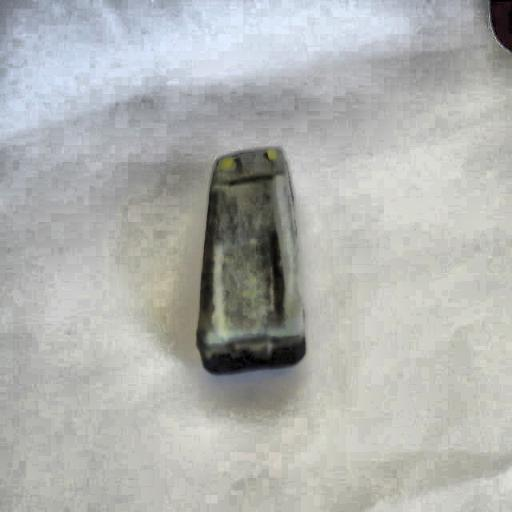normal_car: (194, 145, 310, 377)
